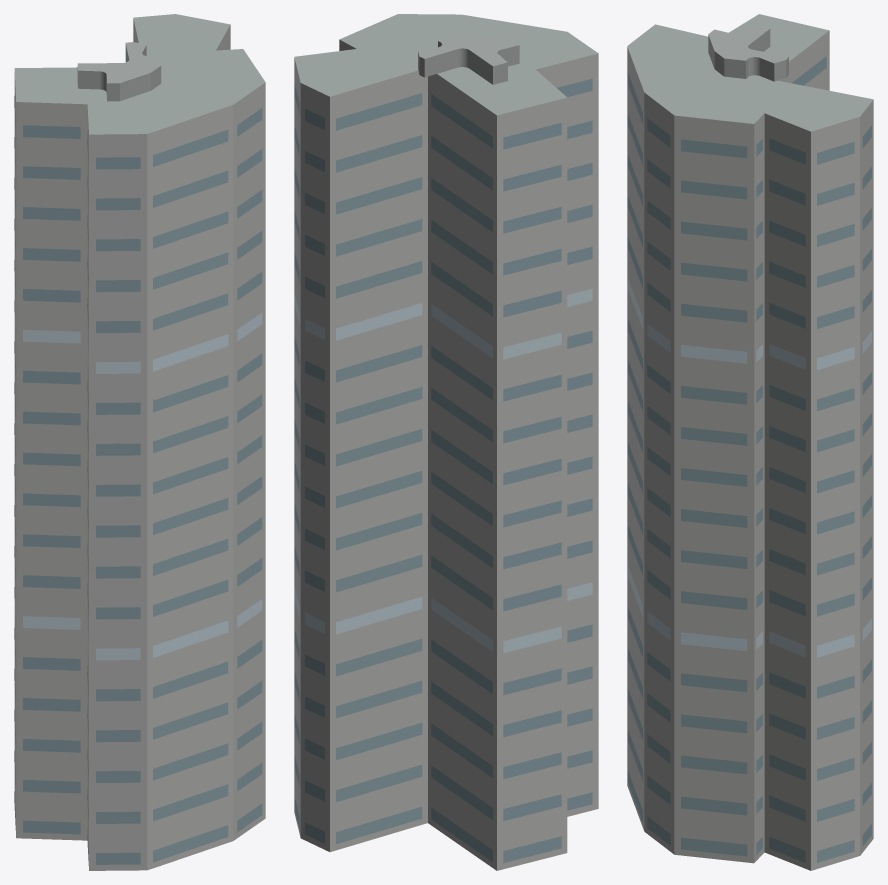
Rendered from fallback-jamsil-parkrio-217.glb.
The picture shows the model from 3 angles, left to right: view 1: azimuth 30°, elevation 25°; view 2: azimuth 150°, elevation 25°; view 3: azimuth 270°, elevation 25°; orthographic projection. The views are drawn at different scales.
Visible parts, largest first — view 1: fallback-jamsil-parkrio-217; view 2: fallback-jamsil-parkrio-217; view 3: fallback-jamsil-parkrio-217.
Boxes of the visible parts, x1,y1,x2,y2 form: fallback-jamsil-parkrio-217: (14, 14, 265, 870); fallback-jamsil-parkrio-217: (294, 14, 598, 870); fallback-jamsil-parkrio-217: (627, 14, 873, 870).
Size of the model in its own units: 33.33 by 100 by 29.51.
